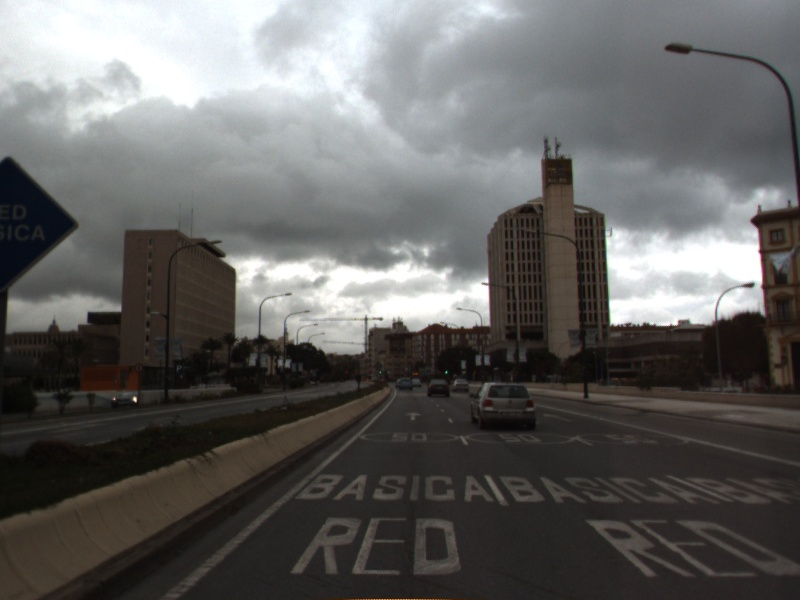STRAIGHT: (541, 411, 575, 424), (402, 410, 424, 423)
